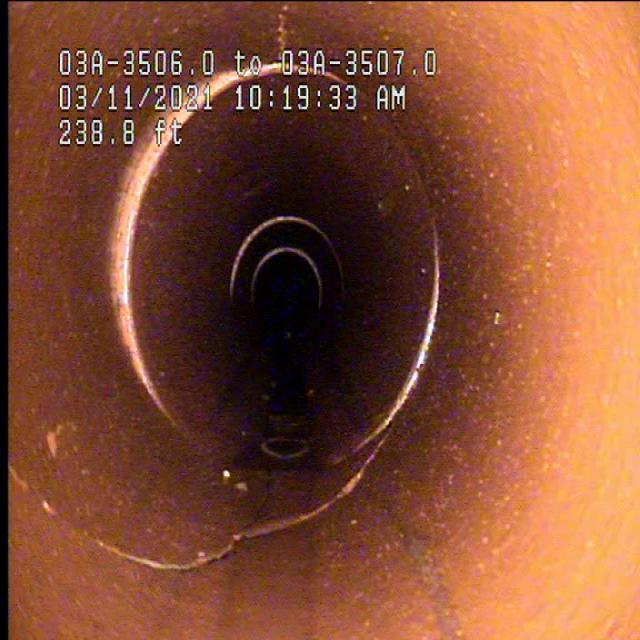Fracture: (41, 468, 371, 571)
